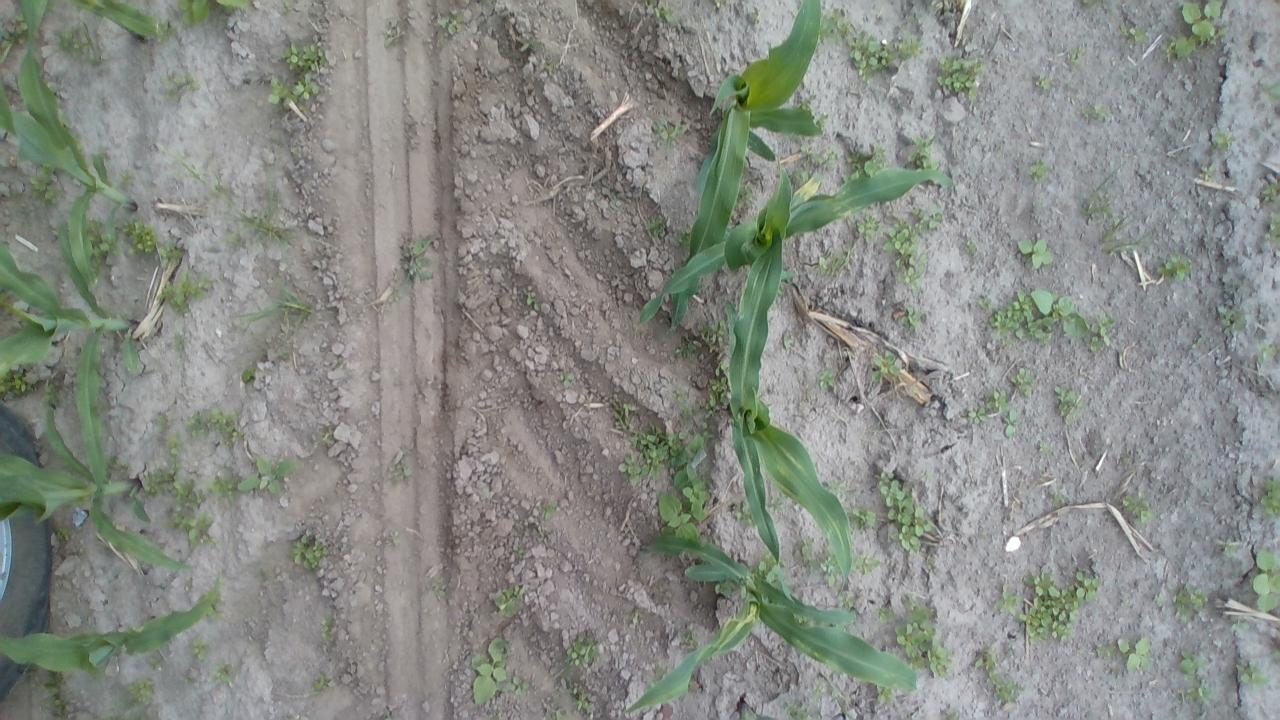Maize: (666, 0, 840, 332), (616, 534, 926, 720), (636, 164, 962, 334), (714, 229, 857, 588), (0, 376, 202, 578), (0, 42, 143, 292), (0, 206, 147, 424), (0, 572, 228, 684), (0, 0, 176, 71)
Weeds: (1014, 568, 1102, 655), (978, 288, 1092, 344), (889, 606, 960, 681), (162, 144, 244, 208), (874, 472, 935, 550), (229, 195, 306, 256), (631, 432, 710, 481), (1166, 0, 1226, 63), (971, 645, 1029, 708), (883, 218, 935, 288), (177, 402, 256, 446), (234, 286, 316, 328), (930, 50, 991, 106), (466, 634, 511, 704), (651, 492, 712, 542), (498, 31, 564, 77), (235, 456, 302, 500), (394, 236, 436, 302), (159, 268, 213, 318), (848, 28, 894, 86), (50, 17, 100, 70), (1098, 214, 1164, 253), (266, 74, 327, 116), (158, 66, 216, 108), (674, 464, 714, 523), (166, 0, 256, 26), (1167, 575, 1210, 629), (278, 40, 332, 78), (1252, 547, 1280, 616), (82, 218, 124, 264), (1116, 632, 1158, 677), (821, 677, 864, 720), (1234, 656, 1278, 698), (796, 142, 852, 174), (23, 166, 62, 208), (864, 351, 906, 390), (172, 508, 217, 544), (492, 580, 533, 619), (34, 674, 72, 716), (290, 530, 332, 568), (1079, 184, 1118, 224), (1119, 487, 1155, 530), (811, 253, 860, 284), (562, 634, 604, 670), (1084, 315, 1122, 354), (647, 116, 690, 150), (125, 219, 162, 258), (1014, 238, 1058, 270), (204, 474, 246, 507), (852, 212, 888, 250), (170, 474, 205, 512), (708, 369, 732, 424), (1173, 642, 1209, 678), (988, 582, 1022, 620), (846, 550, 887, 580), (434, 10, 466, 48), (1159, 254, 1202, 282), (124, 675, 158, 709), (699, 320, 734, 353), (856, 143, 892, 175), (1257, 473, 1280, 523), (1024, 158, 1065, 186), (906, 205, 950, 231), (617, 454, 647, 492), (392, 446, 415, 495), (846, 500, 879, 534), (608, 400, 640, 435), (892, 302, 927, 334), (0, 364, 37, 393), (909, 136, 940, 170), (139, 470, 175, 499), (782, 698, 828, 720), (640, 0, 674, 29), (644, 211, 670, 248), (736, 502, 762, 538), (1120, 22, 1158, 46), (382, 12, 406, 50), (1185, 680, 1219, 706), (1052, 382, 1078, 416), (811, 16, 845, 42), (1219, 306, 1250, 334), (309, 669, 342, 695), (894, 38, 928, 63), (1044, 488, 1074, 516), (626, 607, 652, 639), (998, 408, 1022, 442), (1012, 364, 1036, 398), (1080, 98, 1110, 125), (42, 373, 66, 406), (232, 358, 260, 386), (166, 436, 185, 477), (188, 633, 211, 666), (552, 365, 580, 392), (821, 556, 842, 592), (1252, 338, 1280, 365), (758, 553, 784, 582), (566, 684, 594, 710), (1030, 72, 1058, 98), (985, 386, 1010, 415), (812, 368, 841, 393), (317, 614, 338, 648), (1227, 616, 1259, 638), (679, 402, 703, 431), (155, 241, 188, 262), (428, 580, 454, 606), (1257, 178, 1280, 206), (831, 594, 860, 616), (874, 603, 900, 627), (829, 474, 852, 501), (210, 662, 235, 686), (509, 672, 532, 698), (1220, 536, 1242, 562), (154, 411, 176, 437), (538, 494, 560, 520), (766, 492, 786, 520), (796, 535, 822, 556), (203, 596, 224, 622), (322, 426, 341, 454), (1266, 210, 1280, 248), (520, 288, 542, 312), (870, 682, 894, 704), (541, 703, 572, 720), (266, 344, 292, 364), (382, 524, 402, 550), (268, 0, 300, 16), (1064, 43, 1086, 66), (675, 628, 698, 650), (670, 384, 691, 407), (476, 478, 496, 502), (1210, 130, 1230, 154), (676, 228, 694, 254), (712, 582, 738, 600), (812, 110, 833, 132), (956, 234, 975, 258), (742, 1, 763, 22), (734, 180, 754, 202), (677, 338, 699, 358), (794, 92, 814, 114), (170, 331, 190, 351), (938, 703, 961, 720), (969, 404, 988, 424), (1035, 438, 1054, 456), (792, 168, 811, 184), (1200, 160, 1215, 180), (838, 168, 862, 180), (510, 544, 527, 560), (146, 652, 162, 669), (1269, 647, 1280, 671), (702, 0, 722, 12)
